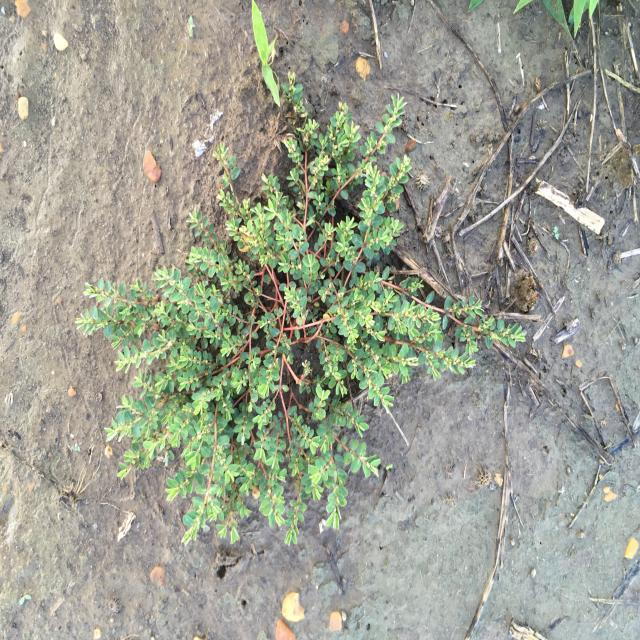SpottedSpurge: (73, 70, 529, 548)
